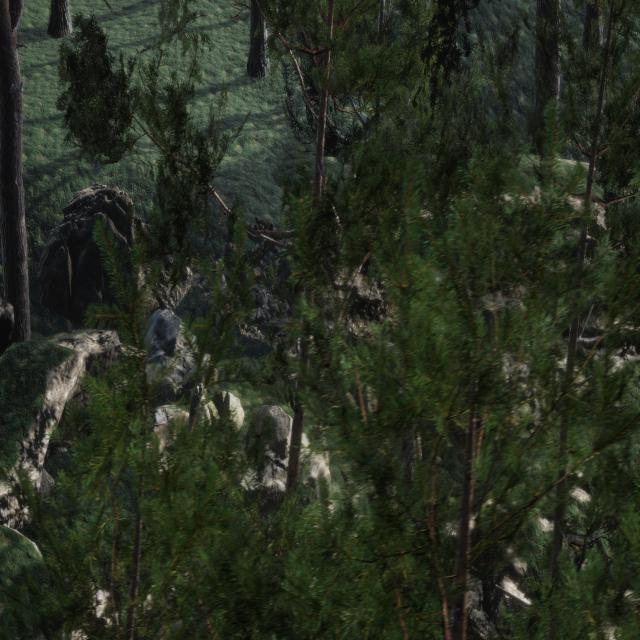Human: (286, 308, 304, 372)
